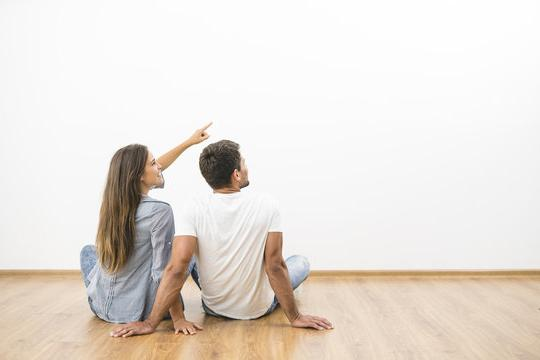long sleeve shirt: (85, 193, 176, 321)
short sleeve shirt: (170, 191, 285, 320)
trousers: (79, 243, 192, 320), (188, 254, 313, 319)
